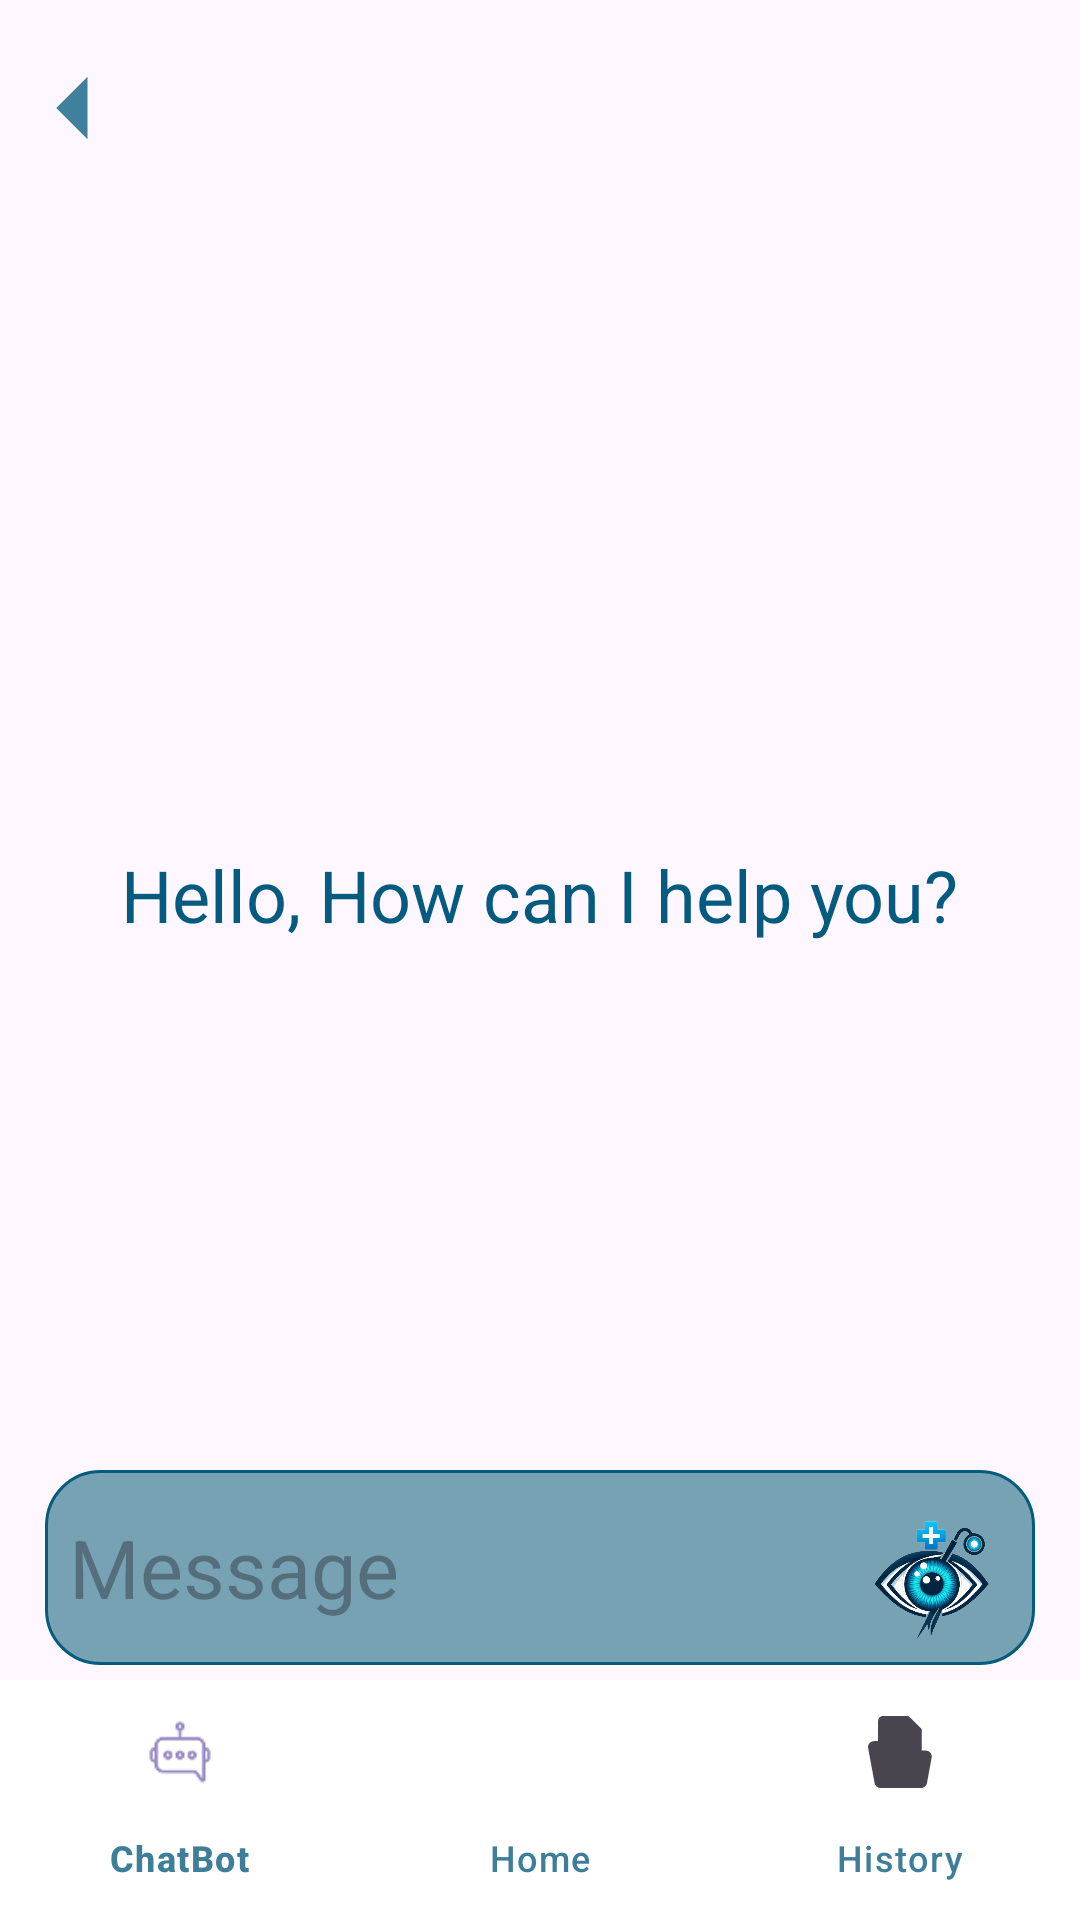

Named icons in this screenshot (1080w x 1920h) and their centers, point (x, y):
Back: point (72, 108)
